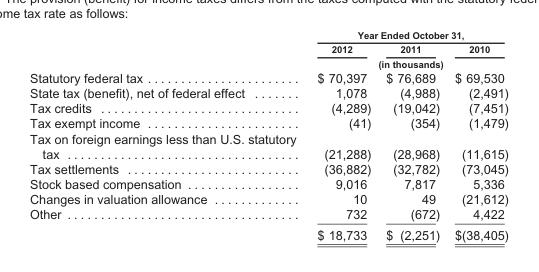table: (28, 28, 507, 241)
table column: (28, 28, 306, 241), (306, 28, 377, 241), (377, 28, 446, 241), (446, 28, 507, 241)
table column header: (28, 28, 507, 69)
table row: (28, 130, 507, 160), (28, 206, 507, 224), (28, 224, 507, 241), (28, 69, 507, 85), (28, 160, 507, 176), (28, 41, 507, 56), (28, 85, 507, 100), (28, 100, 507, 115), (28, 115, 507, 130), (28, 176, 507, 191), (28, 191, 507, 206), (28, 28, 507, 41), (28, 56, 507, 69)
table spanning cell: (306, 28, 507, 41), (306, 56, 507, 69)
